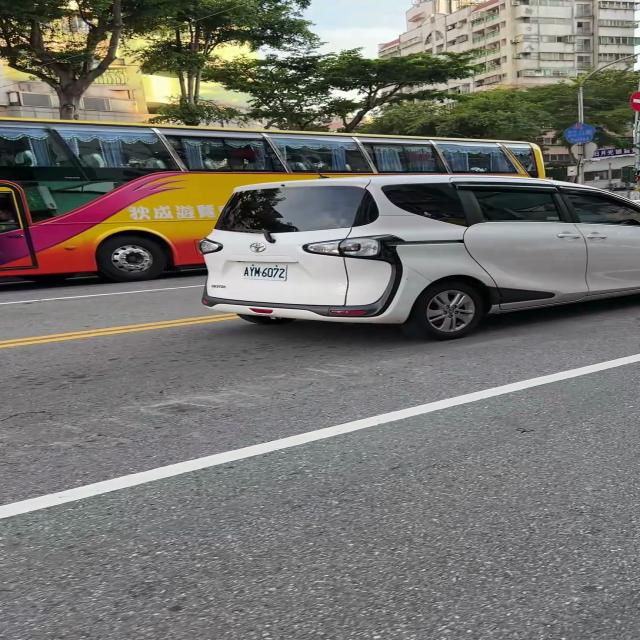bus: (0, 119, 543, 281)
car: (199, 175, 640, 339)
